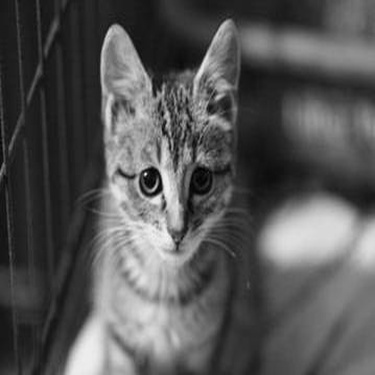cat: (95, 19, 260, 371)
